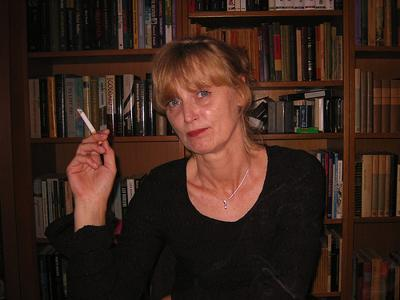person: (66, 33, 334, 300)
